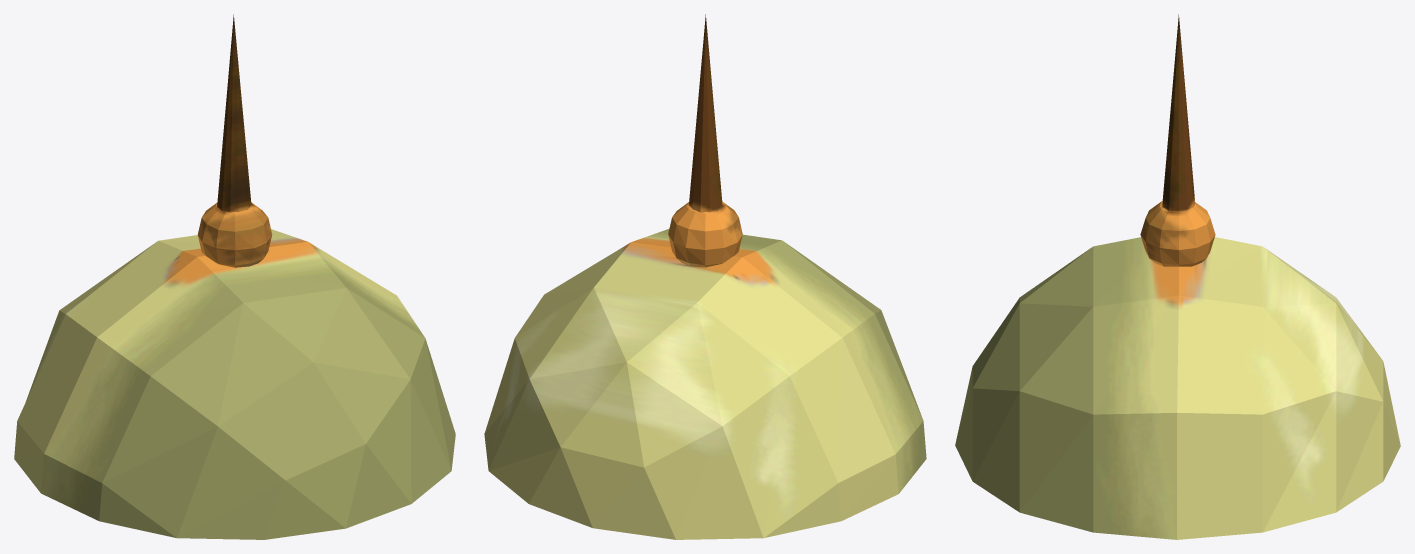
File: Kipa.glb
The picture shows the model from 3 angles, left to right: view 1: azimuth 30°, elevation 25°; view 2: azimuth 150°, elevation 25°; view 3: azimuth 270°, elevation 25°; orthographic projection.
Parts seen in each view (by area): view 1: Kipa; view 2: Kipa; view 3: Kipa.
Part boxes in pixels (<box>): Kipa: <box>14,14,455,539</box>; Kipa: <box>484,14,926,539</box>; Kipa: <box>955,14,1400,539</box>.
Size of the model in its own units: 188 by 200 by 188.
Materials: 1 (1 with a texture image).
